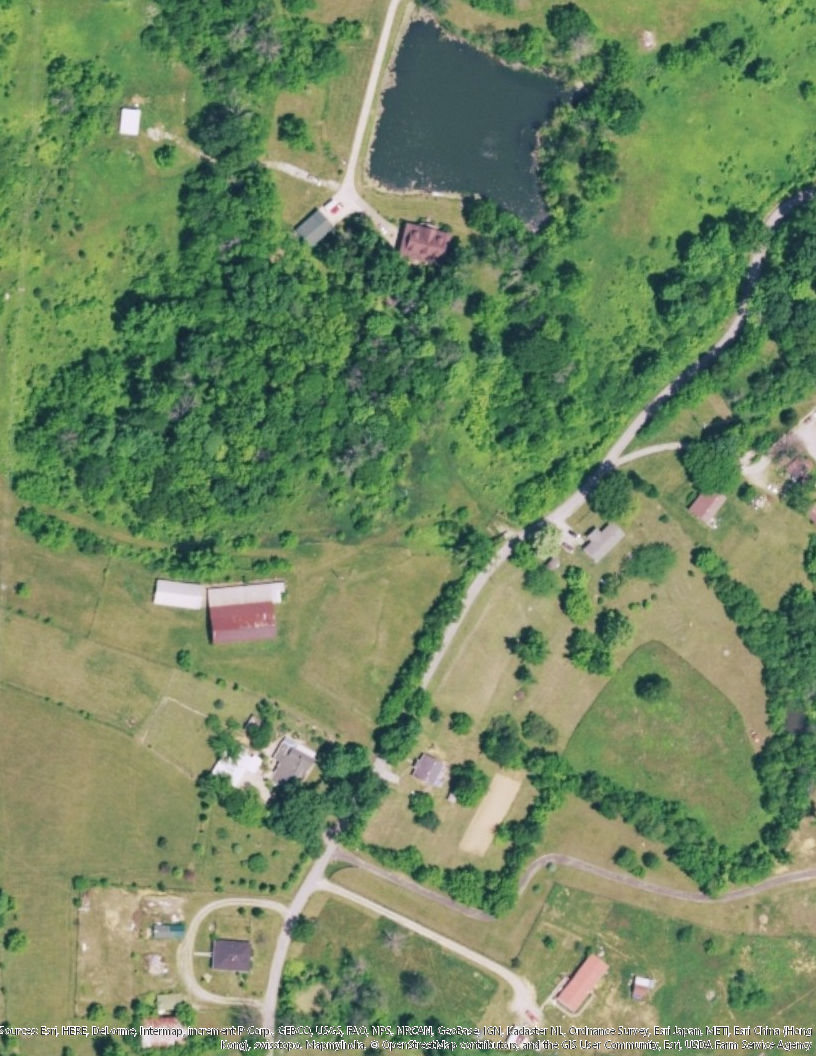cafo: (148, 577, 291, 648)
